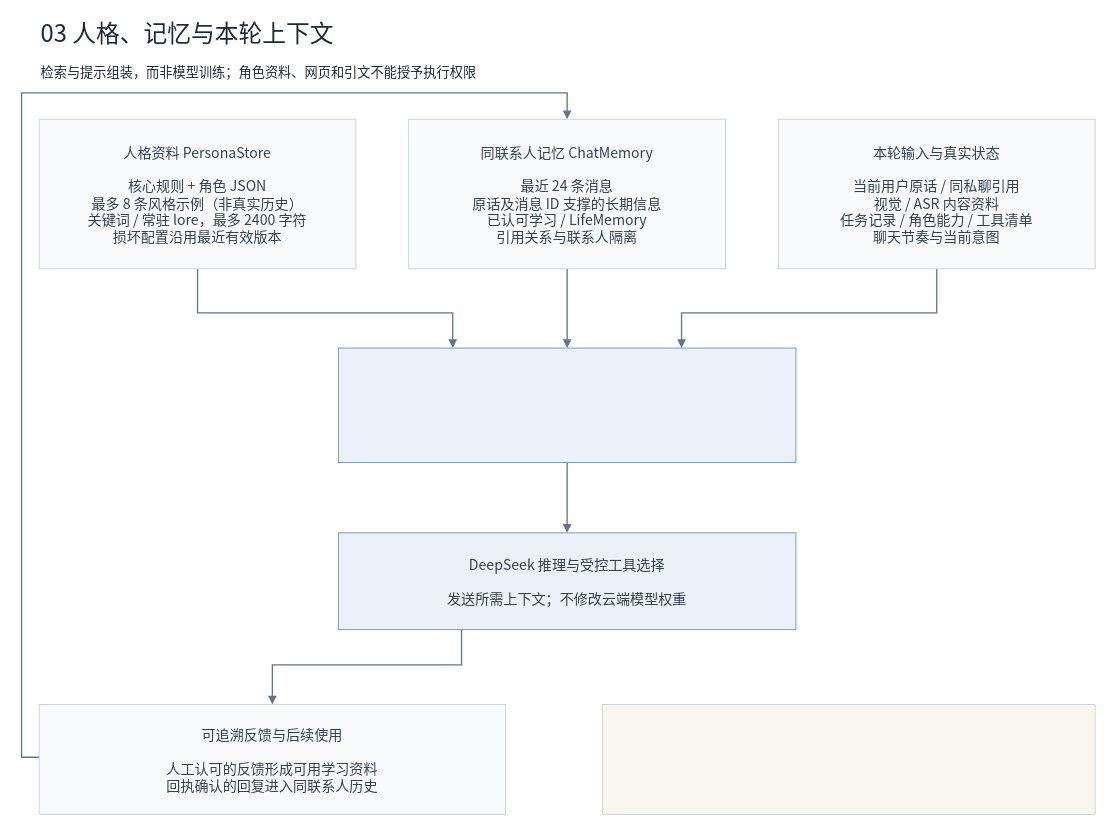
Some shapes in this 1111 by 830 pixel diagram are drawn without their labels. Each missing label, with the centre of its shape:
"QQConversation.prepare → pack_messages 按本轮请求组装消息 资料只影响内容，不替代权限校验" belongs at point 566,404.
"隐私边界 原始状态在本机；必要上下文仍会发送云端 “本地保存”不等于“完全离线”" belongs at point 848,759.
